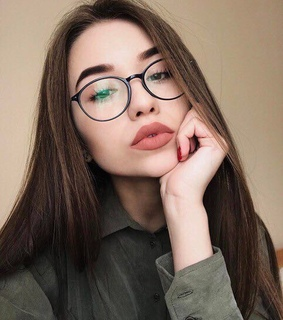GIRL: (59, 12, 203, 188)
